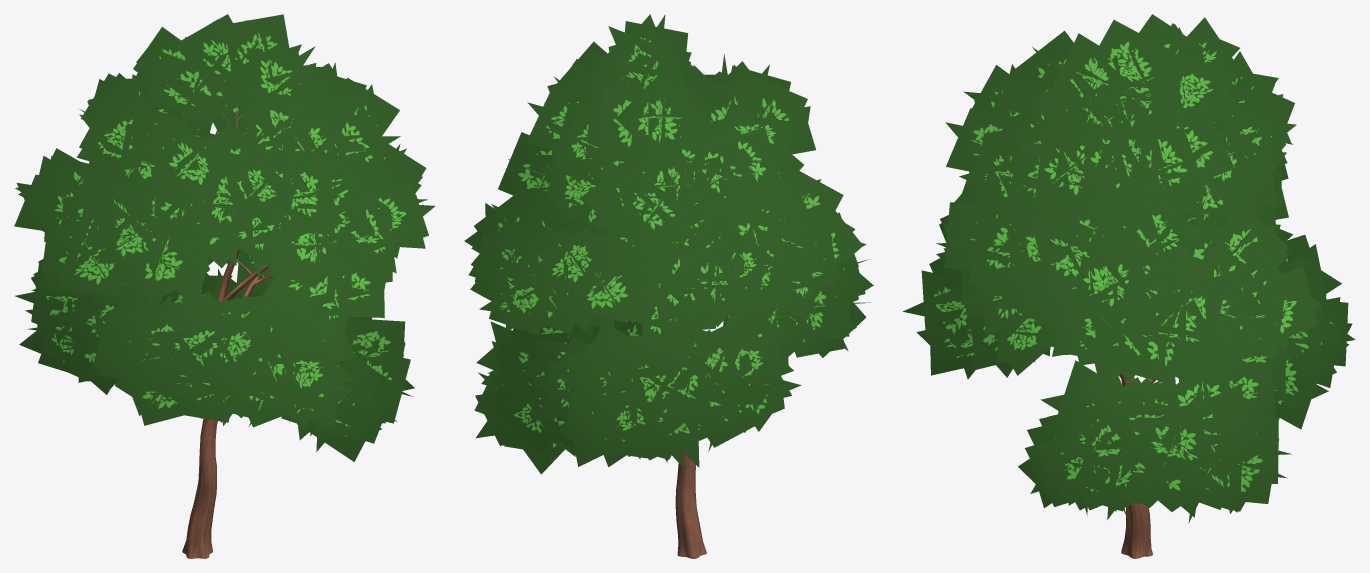
File: Tree_02.glb
3 views of the same model, side by side, from view 1: azimuth 30°, elevation 25°; view 2: azimuth 150°, elevation 25°; view 3: azimuth 270°, elevation 25° (orthographic). The views are drawn at different scales.
Visible parts, largest first — view 1: Tree_02; view 2: Tree_02; view 3: Tree_02.
Part boxes in pixels (bbox=[...]): Tree_02: bbox=[14, 14, 435, 558]; Tree_02: bbox=[464, 14, 873, 558]; Tree_02: bbox=[903, 14, 1355, 558].
Size of the model in its own units: 4.79 by 6.68 by 4.9.
2 materials, 2 textured.
